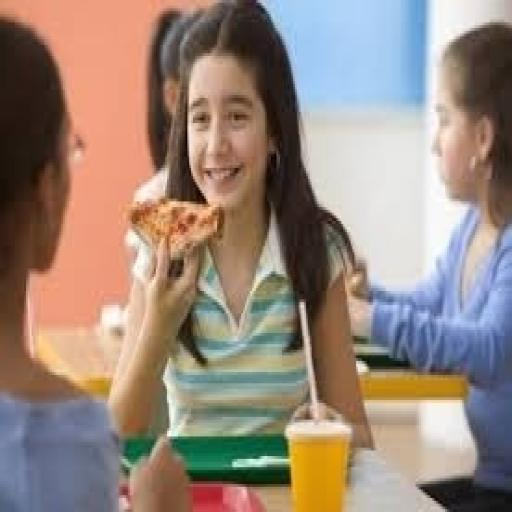eating: (2, 2, 508, 504)
